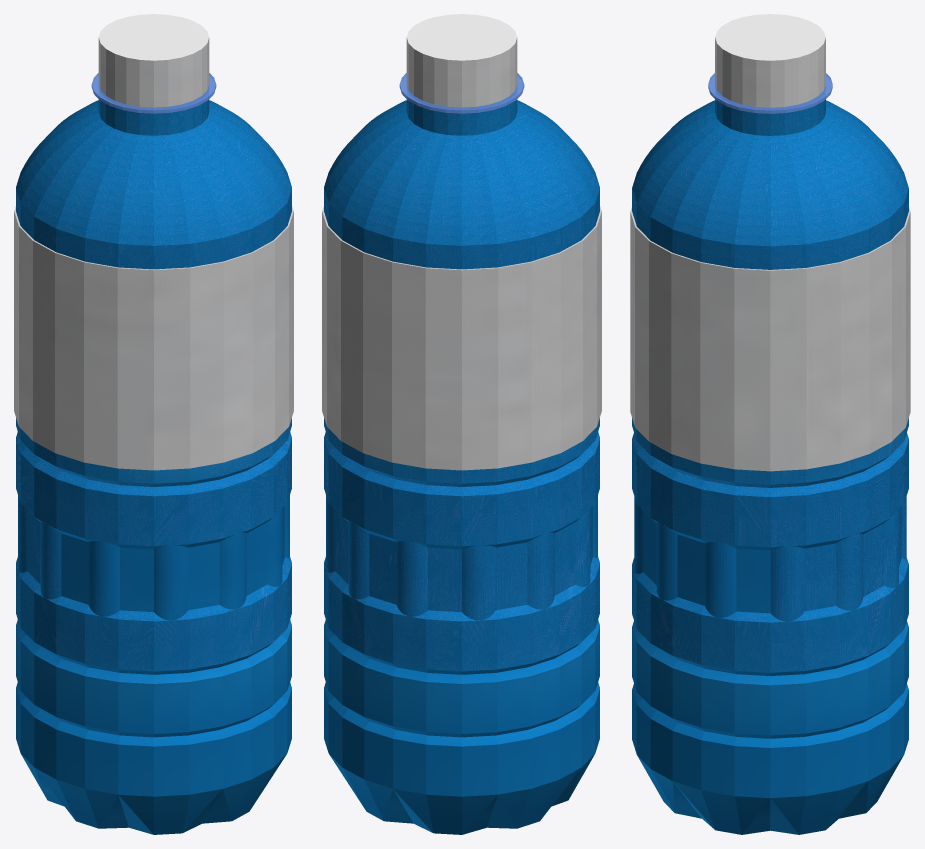
File: water_bottle.dae
The picture shows the model from 3 angles, left to right: view 1: azimuth 30°, elevation 25°; view 2: azimuth 150°, elevation 25°; view 3: azimuth 270°, elevation 25°; orthographic projection.
Parts seen in each view (by area): view 1: SketchUp (×10); view 2: SketchUp (×10); view 3: SketchUp (×10).
Part boxes in pixels (left/top/right/bottom): SketchUp (×10): left=14, top=14, right=293, bottom=834; SketchUp (×10): left=322, top=14, right=601, bottom=834; SketchUp (×10): left=630, top=14, right=910, bottom=834.
Size of the model in its own units: 2.53 by 2.53 by 7.5.
5 materials, 2 textured.
